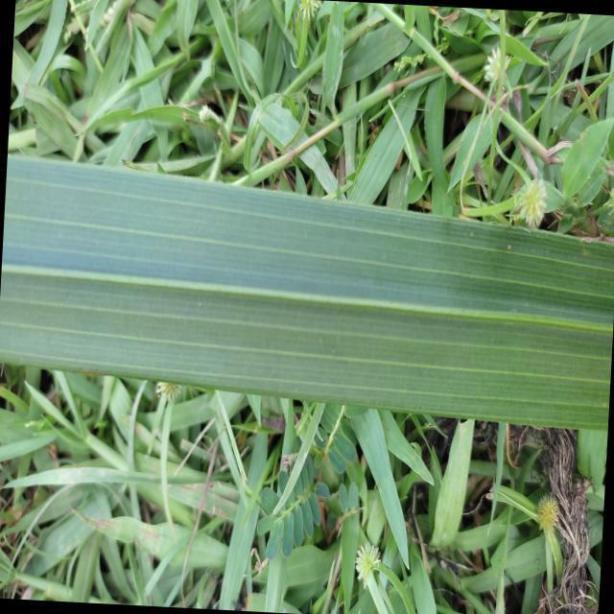Healthy: (0, 154, 614, 434)
